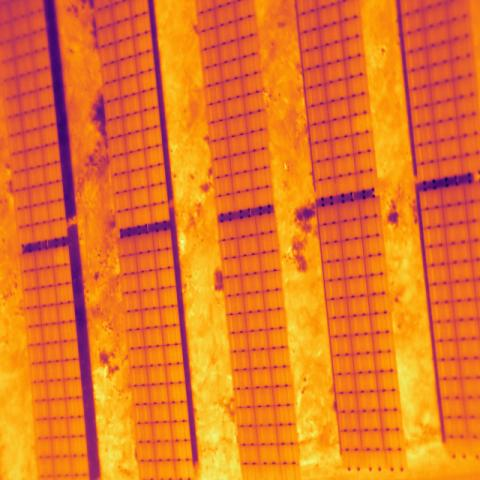fault: (349, 112, 375, 136)
